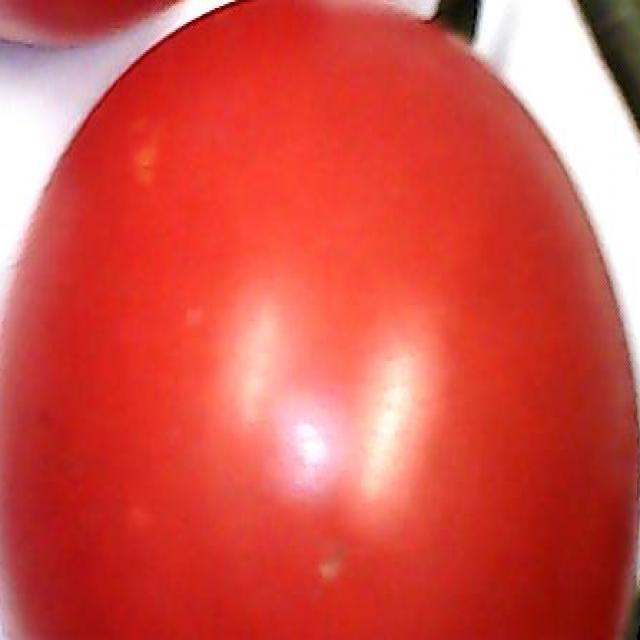Healthy: (18, 6, 640, 640)
